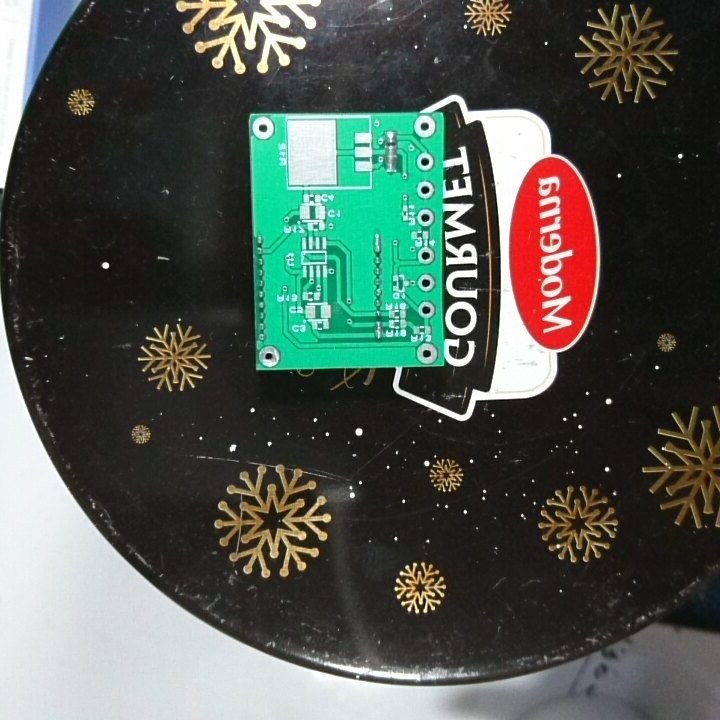F: (412, 113, 437, 140), (250, 115, 277, 140), (414, 340, 439, 364), (258, 343, 282, 368), (414, 272, 437, 294), (414, 179, 437, 200), (415, 244, 436, 267), (415, 152, 437, 173), (417, 299, 437, 320), (414, 207, 434, 226)
P: (382, 143, 400, 175), (371, 230, 385, 256), (373, 318, 383, 341)
